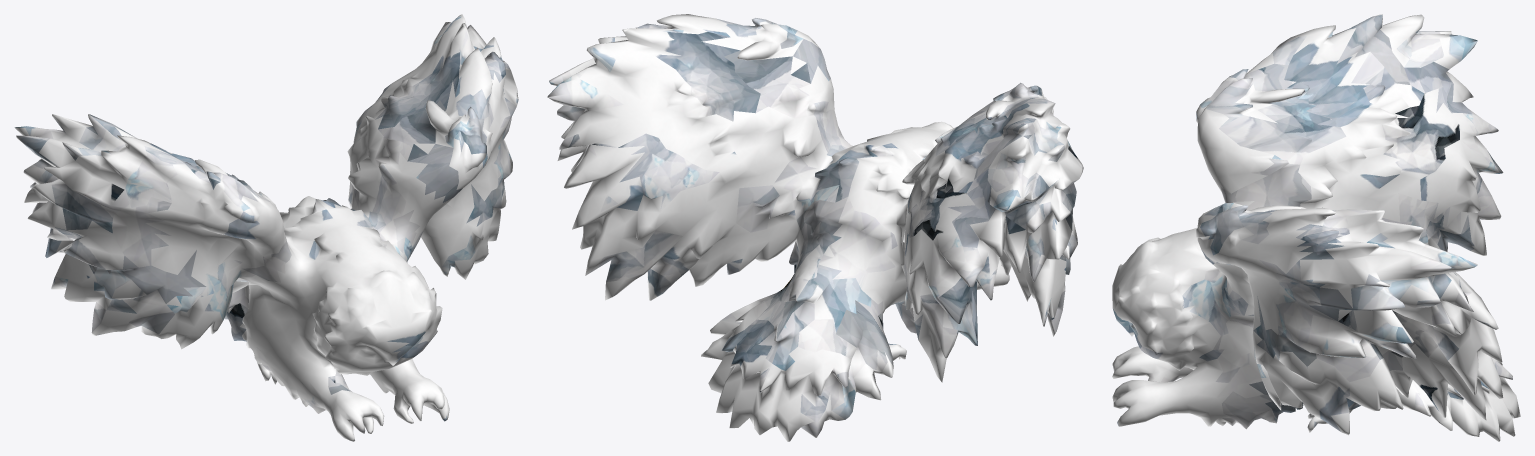
The model's file is snowy_owl_basic_10k.fbx.
3 renders of one model, left to right at view 1: azimuth 30°, elevation 25°; view 2: azimuth 150°, elevation 25°; view 3: azimuth 270°, elevation 25°, orthographic. The views are drawn at different scales.
Visible parts, largest first — view 1: snowy_owl_basic_decimated; view 2: snowy_owl_basic_decimated; view 3: snowy_owl_basic_decimated.
Part boxes in pixels (x1,y1,x2,y2): snowy_owl_basic_decimated: (14, 14, 518, 441); snowy_owl_basic_decimated: (547, 14, 1083, 441); snowy_owl_basic_decimated: (1112, 14, 1520, 441).
Bounding box in the file's own units: 1.91 × 1.14 × 1.35.
